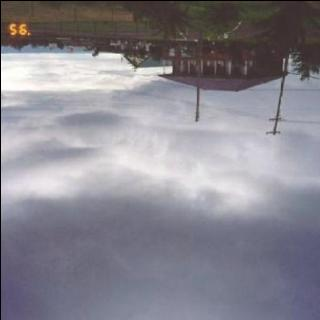Stratus: (0, 107, 320, 320)
